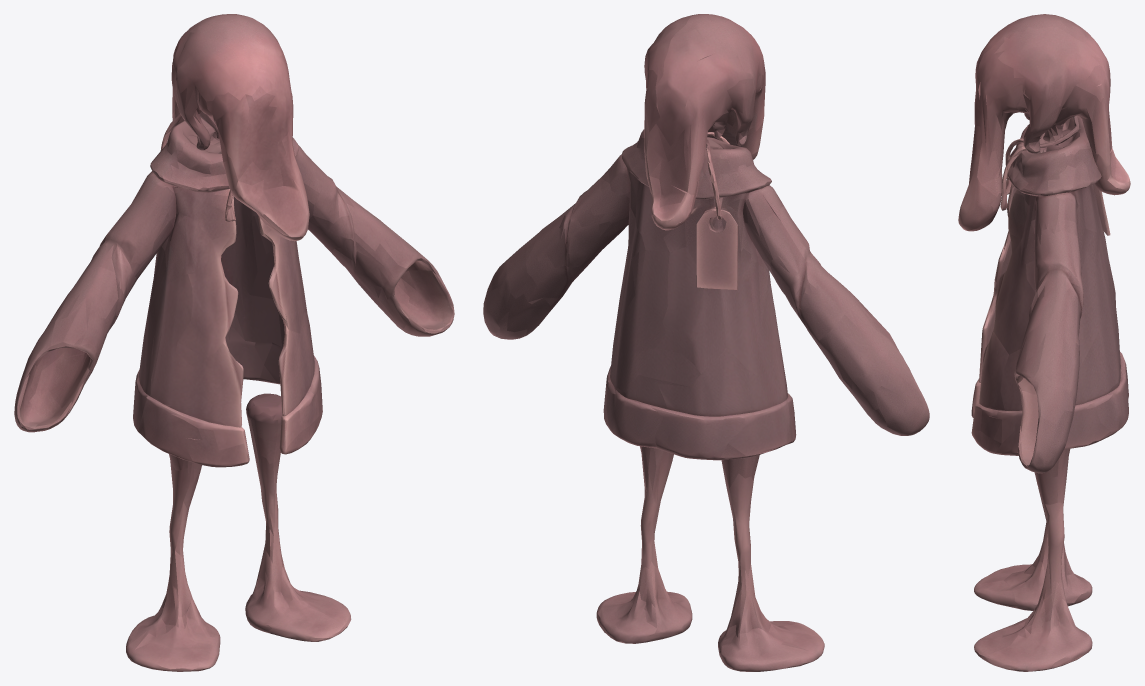
3 renders of one model, left to right at view 1: azimuth 30°, elevation 25°; view 2: azimuth 150°, elevation 25°; view 3: azimuth 270°, elevation 25°, orthographic. The views are drawn at different scales.
Size of the model in its own units: 1.42 by 1.9 by 0.4935.
1 material, 1 textured.
